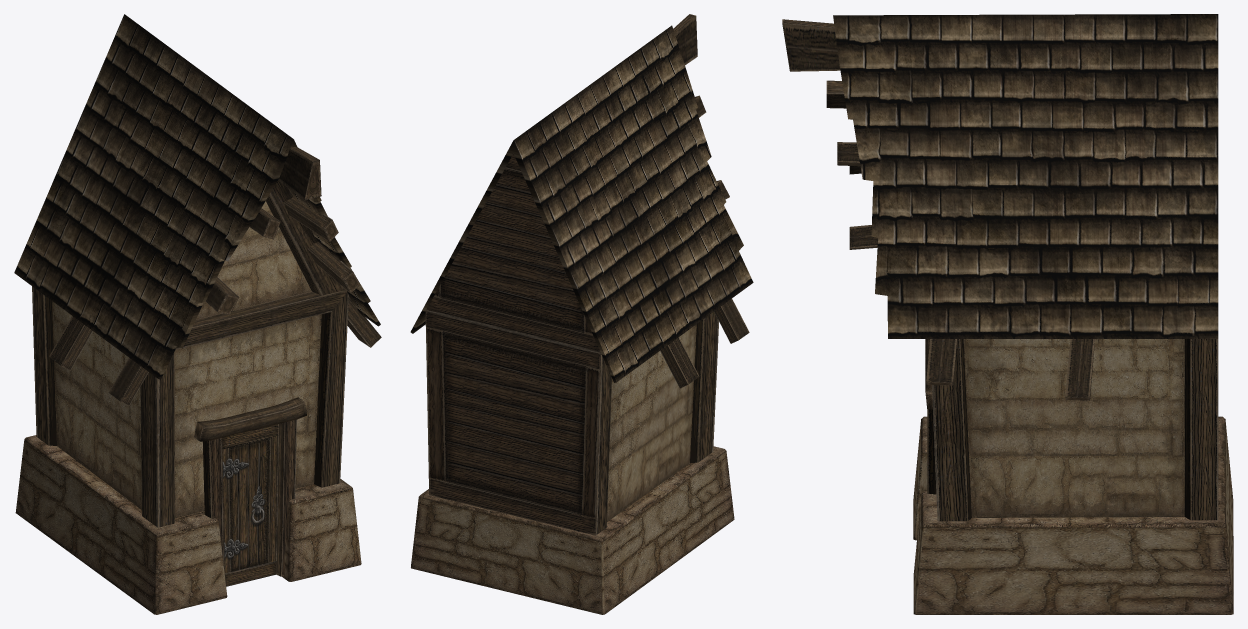
File: House_Entry_02.fbx
The picture shows the model from 3 angles, left to right: view 1: azimuth 30°, elevation 25°; view 2: azimuth 150°, elevation 25°; view 3: azimuth 270°, elevation 25°; orthographic projection. The views are drawn at different scales.
Visible parts, largest first — view 1: House_Entry_02; view 2: House_Entry_02; view 3: House_Entry_02.
Boxes of the visible parts, box(x1,y1,x2,y2) form: House_Entry_02: box(14, 14, 381, 614); House_Entry_02: box(410, 14, 753, 614); House_Entry_02: box(782, 14, 1233, 614).
Bounding box in the file's own units: 4.89 × 8.43 × 6.35.
